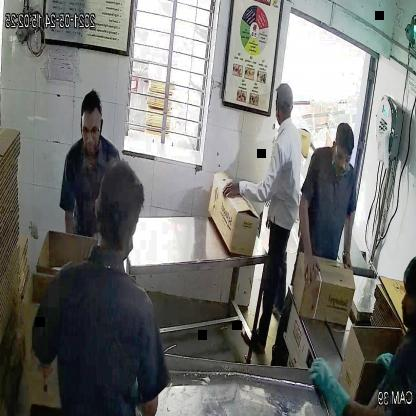goggles: (76, 114, 106, 143), (331, 146, 356, 168)
